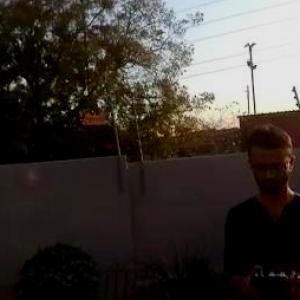follow: (216, 119, 299, 299)
